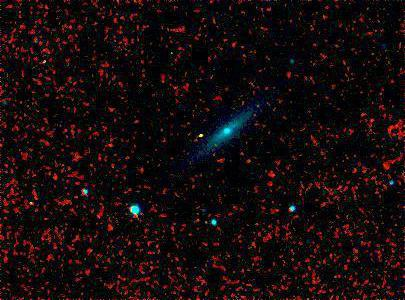star: (243, 92, 273, 122)
